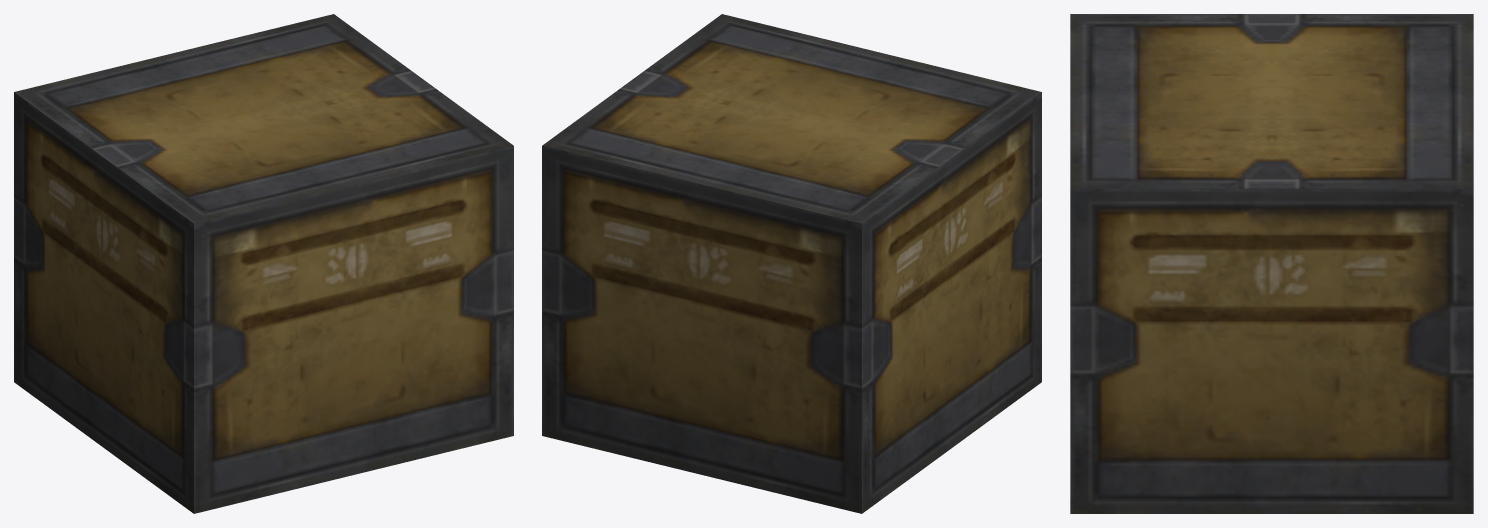
File: yw_gonghuilingdi_xiaowujian03.FBX
3 views of the same model, side by side, from view 1: azimuth 30°, elevation 25°; view 2: azimuth 150°, elevation 25°; view 3: azimuth 270°, elevation 25° (orthographic). The views are drawn at different scales.
Parts seen in each view (by area): view 1: yw_gonghuilingdi_xiaowujian03; view 2: yw_gonghuilingdi_xiaowujian03; view 3: yw_gonghuilingdi_xiaowujian03.
Boxes of the visible parts, x1=… form: yw_gonghuilingdi_xiaowujian03: x1=14, y1=14, x2=513, y2=513; yw_gonghuilingdi_xiaowujian03: x1=542, y1=14, x2=1041, y2=513; yw_gonghuilingdi_xiaowujian03: x1=1070, y1=14, x2=1473, y2=513.
Bounding box in the file's own units: 74.27 × 64.42 × 72.36.
